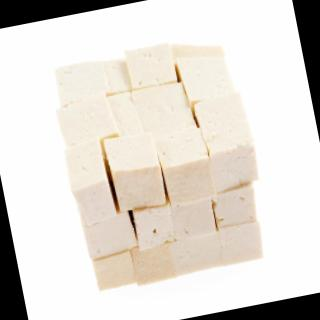Tahu: (29, 17, 293, 301)
